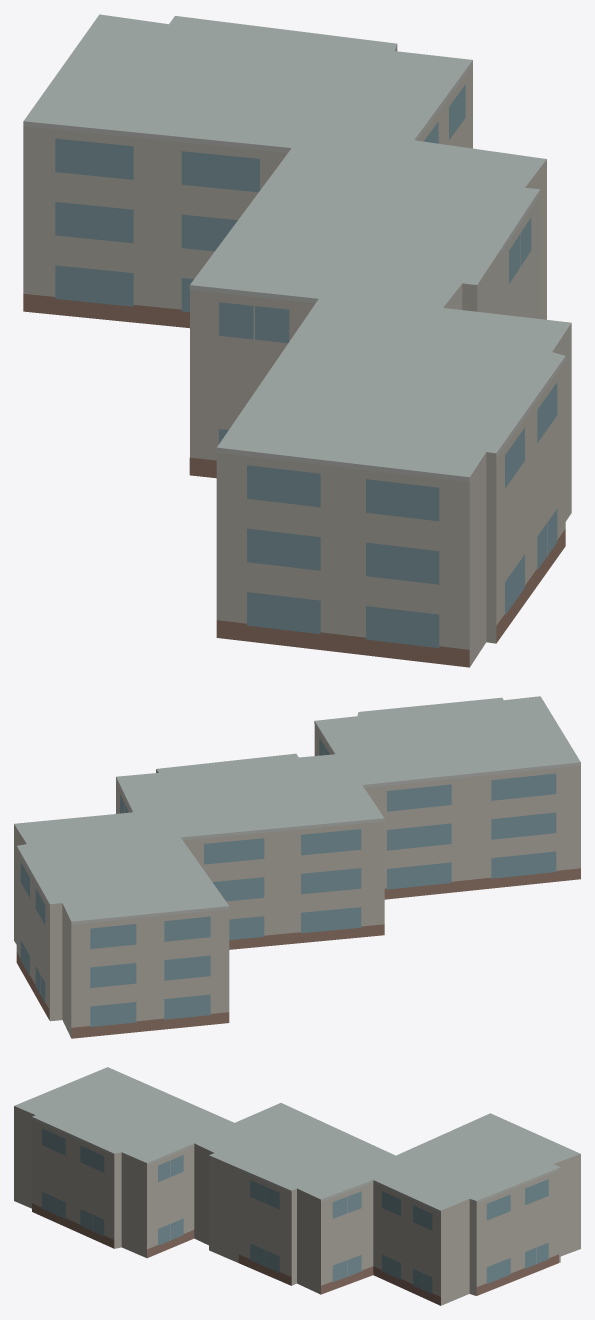
The model's file is survey-upis-32681201.glb.
The picture shows the model from 3 angles, top to bottom: view 1: azimuth 30°, elevation 25°; view 2: azimuth 150°, elevation 25°; view 3: azimuth 270°, elevation 25°; orthographic projection. The views are drawn at different scales.
Parts seen in each view (by area): view 1: survey-upis-32681201.tmp; view 2: survey-upis-32681201.tmp; view 3: survey-upis-32681201.tmp.
Part boxes in pixels (bbox=[...]): survey-upis-32681201.tmp: bbox=[23, 14, 571, 667]; survey-upis-32681201.tmp: bbox=[14, 696, 580, 1038]; survey-upis-32681201.tmp: bbox=[14, 1067, 580, 1305].
Size of the model in its own units: 29.66 by 9.15 by 49.42.
